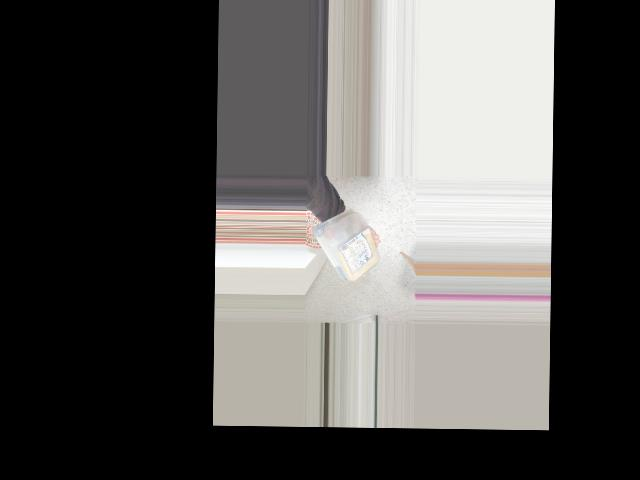cheese: (315, 209, 380, 286)
